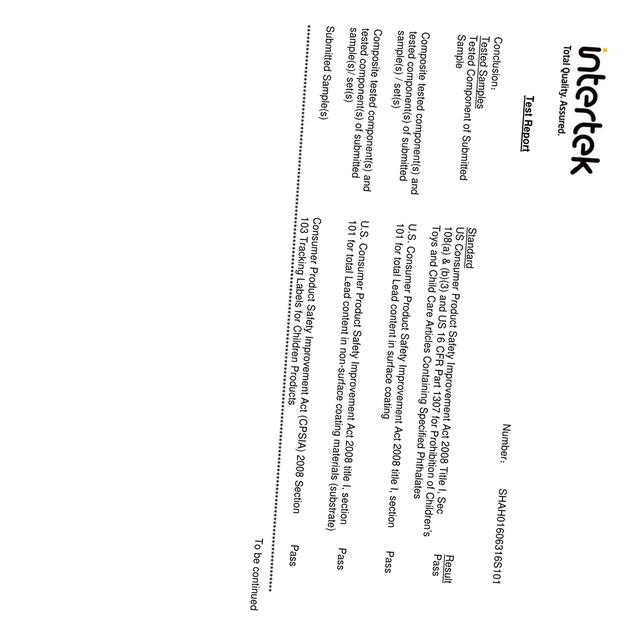intertek: (572, 43, 610, 181)
